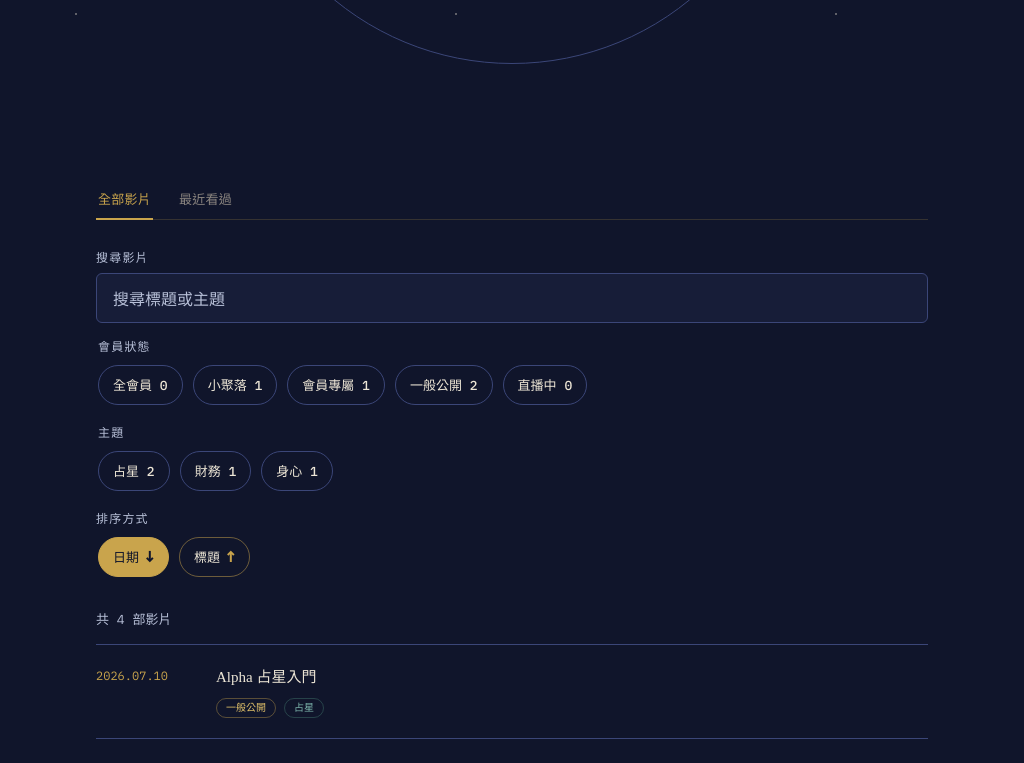
App › clicking an active status filter clears it
(page scrolled)
Click the button "會員專屬 1" at [336, 385], box 287,365 -> 385,405
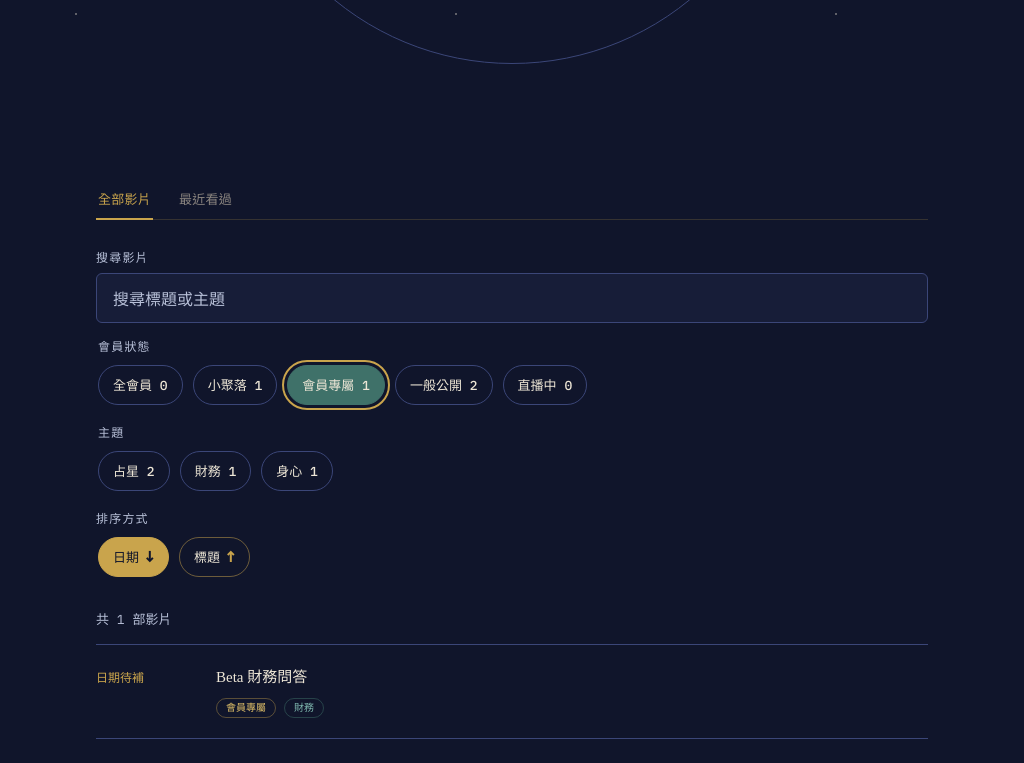
Expected: the text "共 1 部影片" is shown, 96,609 -> 928,645
Expected: the link "Alpha 占星入門" is gone
Click the button "會員專屬 1" at [336, 385], box 287,365 -> 385,405
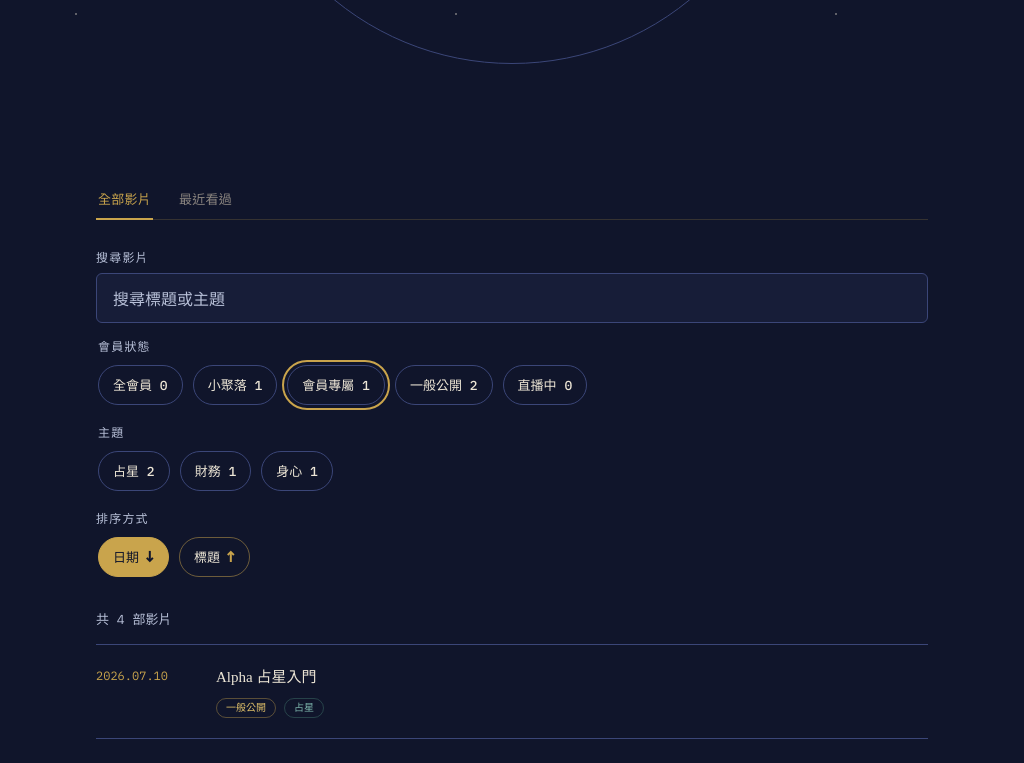
Expected: the text "共 4 部影片" is shown, 96,609 -> 928,645
